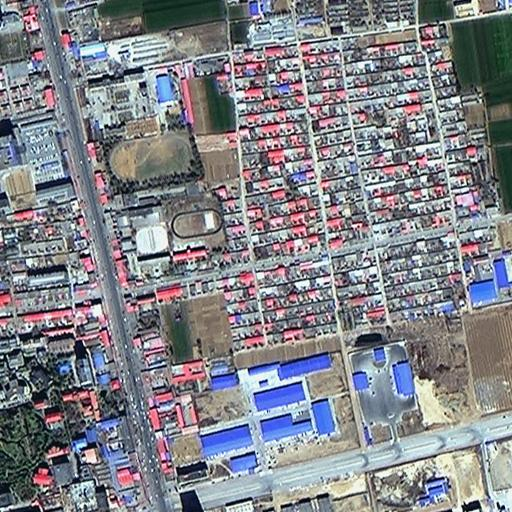school: (75, 56, 197, 191), (167, 194, 225, 275), (119, 204, 172, 281)
